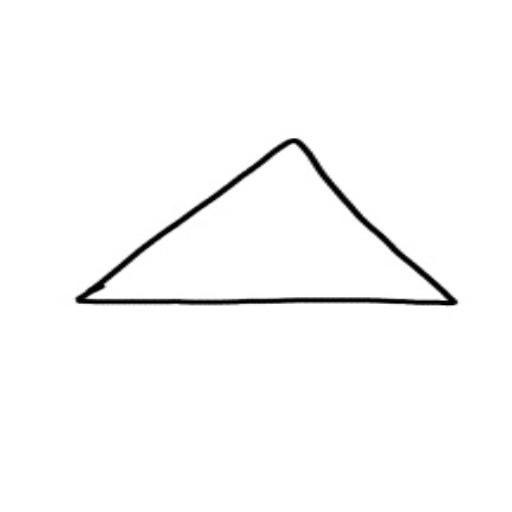triangle: (69, 133, 458, 310)
